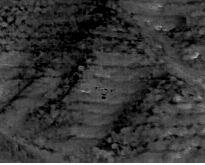Target: (93, 84, 116, 99)
